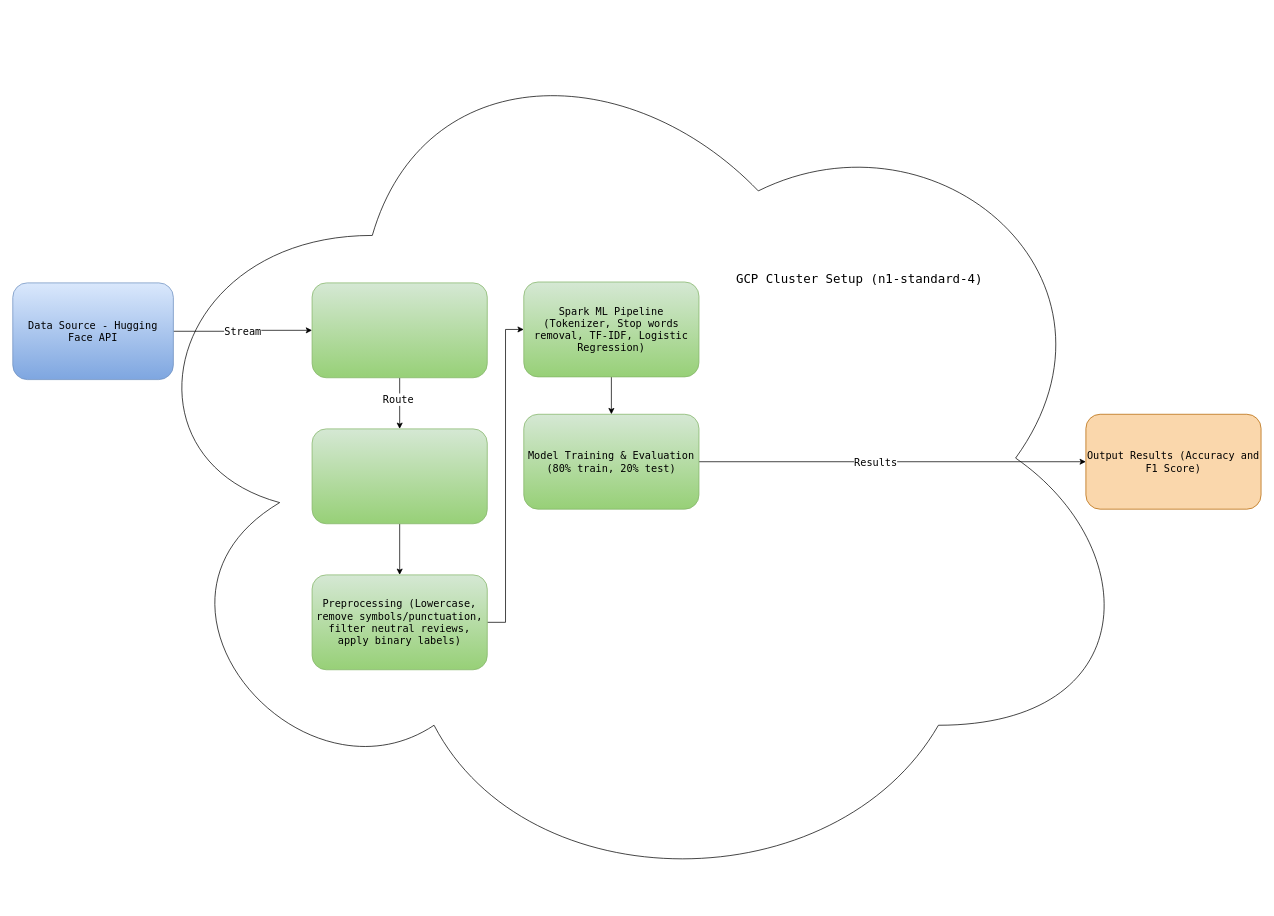
Image size: 1274x916. Some labels were removed from this diagram. Here are the shapes that lost their labels. From the top down, the centre of each, then its label:
At [399,330]: "Cloud NAT Gateway (Enable Internet access for the cluster)".
At [399,476]: "Data Stream Subset using the Py datasets library".
